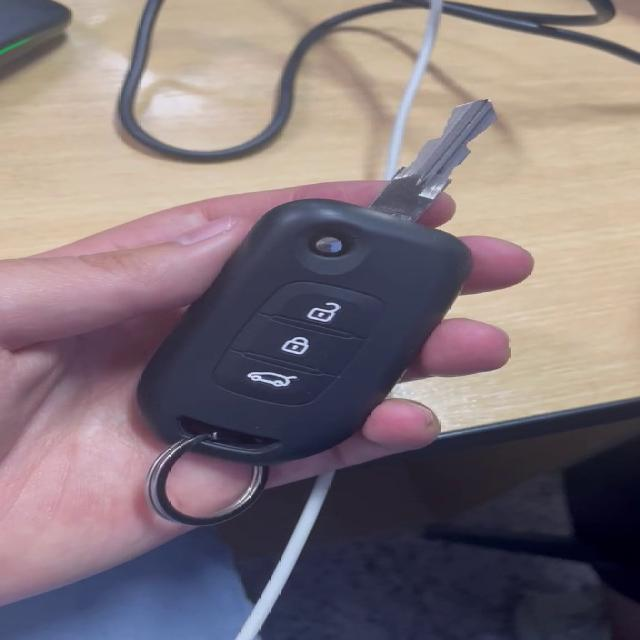llave-auto: (126, 96, 492, 529)
